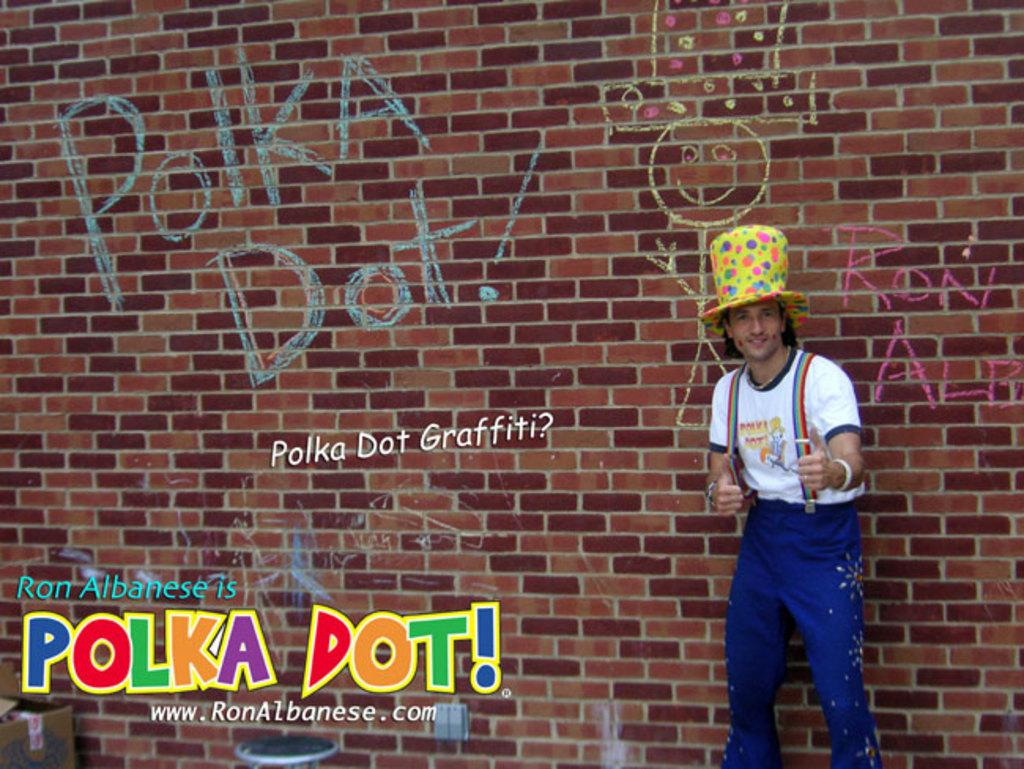Hat: (696, 222, 808, 330)
